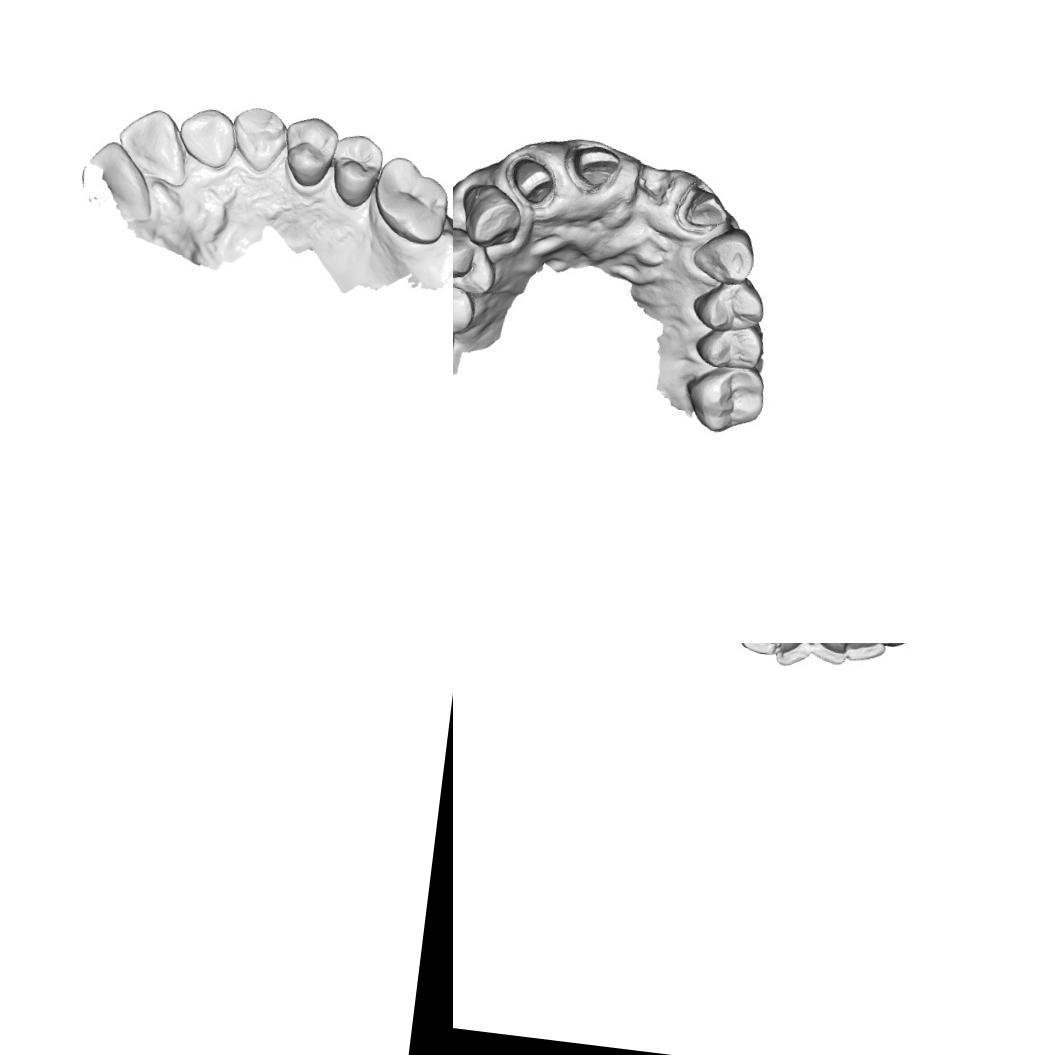canine: (686, 222, 761, 290), (454, 182, 526, 252), (227, 104, 291, 176)
crown: (564, 138, 626, 198), (677, 182, 735, 236), (506, 152, 558, 206)
incisor: (114, 104, 195, 192), (174, 104, 240, 170), (808, 643, 856, 667), (772, 643, 815, 669), (843, 643, 889, 665), (739, 643, 784, 658)
molar: (368, 153, 453, 248), (682, 358, 770, 441)
premolar: (688, 273, 769, 339), (279, 112, 342, 190), (325, 130, 386, 210), (692, 318, 770, 376), (453, 225, 503, 299), (453, 271, 482, 342)
